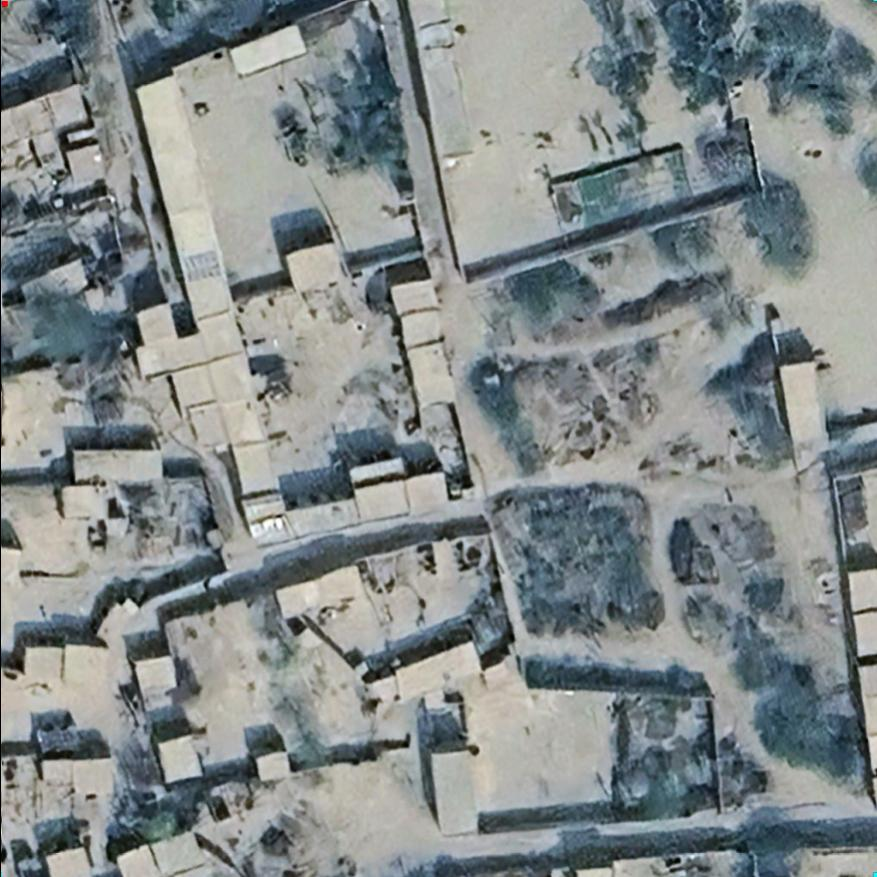Solarpanel: (179, 249, 224, 284), (246, 513, 284, 541)
